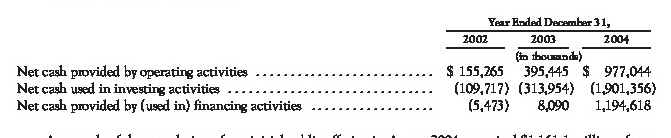table: (0, 0, 671, 138)
